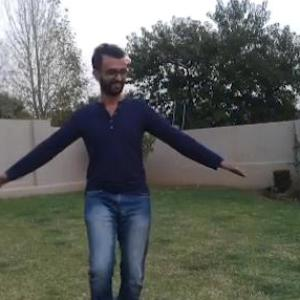land: (3, 39, 247, 299)
